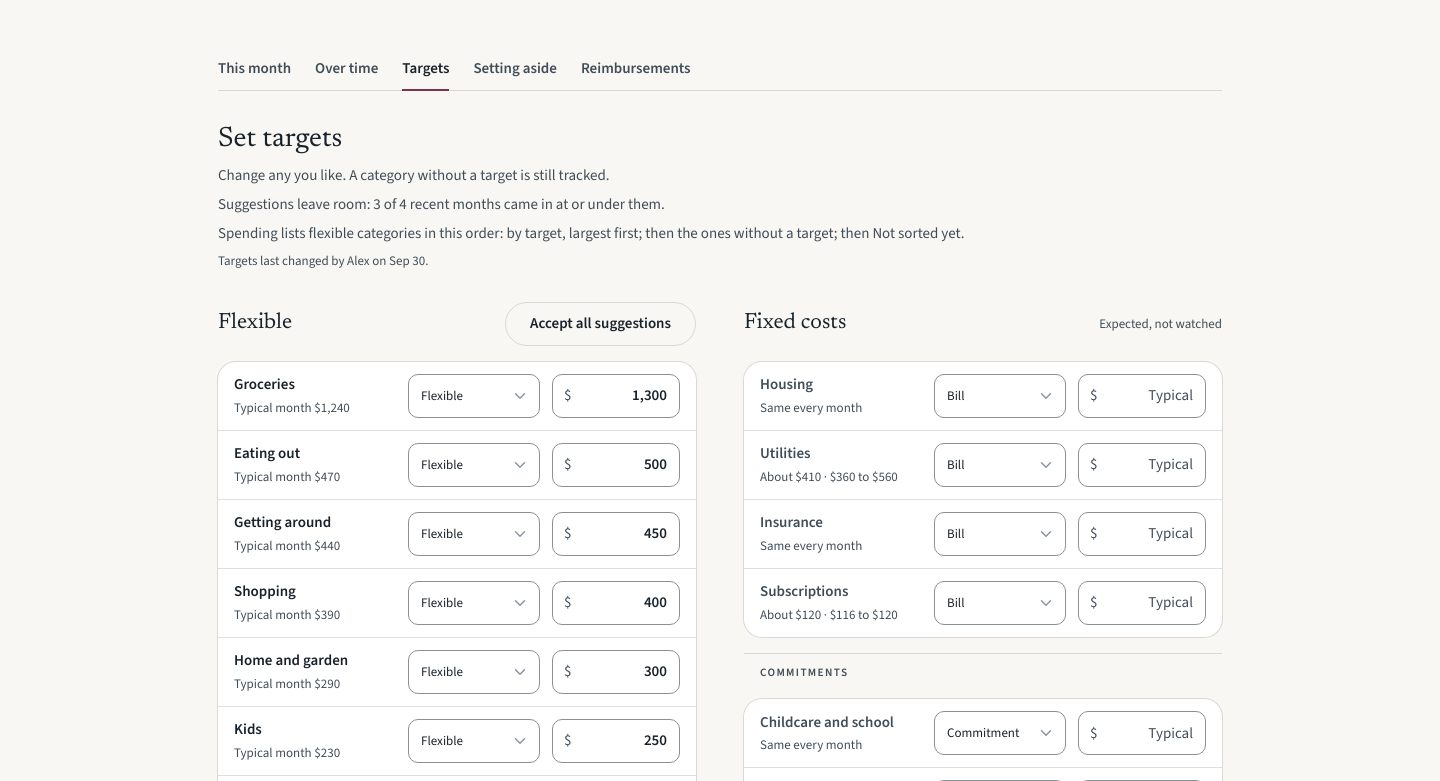
Test case: Set targets › a changed target is outlined, offers the typical month, and saves only what changed
Expected: the text "Suggestions leave room: 3 of 4 recent months came in at or under them." is shown, x1=218 y1=194 x2=665 y2=214
Replace the text in the field named "Groceries target" with "1250" at (616,396), box x1=552 y1=374 x2=680 y2=418
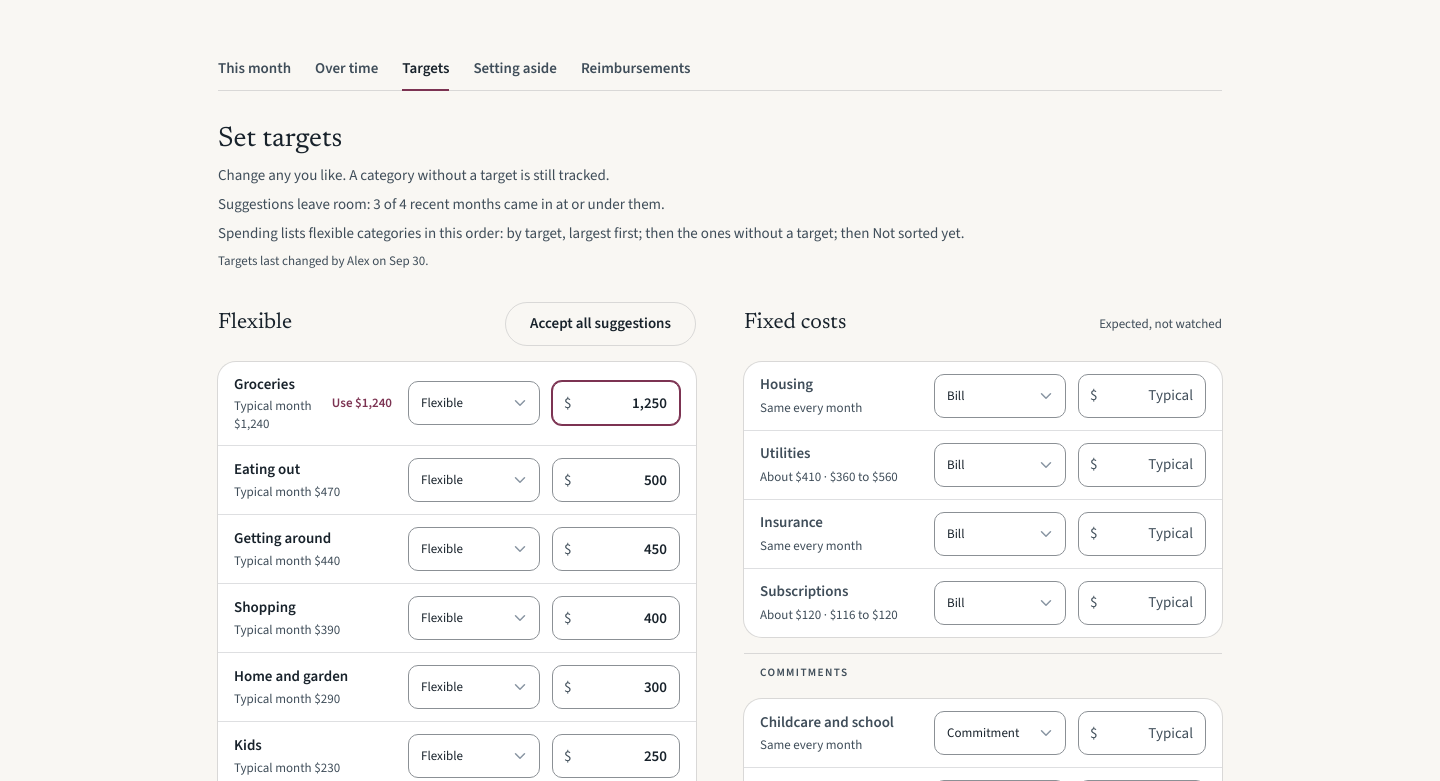
Expected: the element named "Groceries target" has class "is-changed", x1=552 y1=382 x2=680 y2=426
Click the button "Use $1,240" at (362,404), box x1=332 y1=390 x2=392 y2=418
(page scrolled)
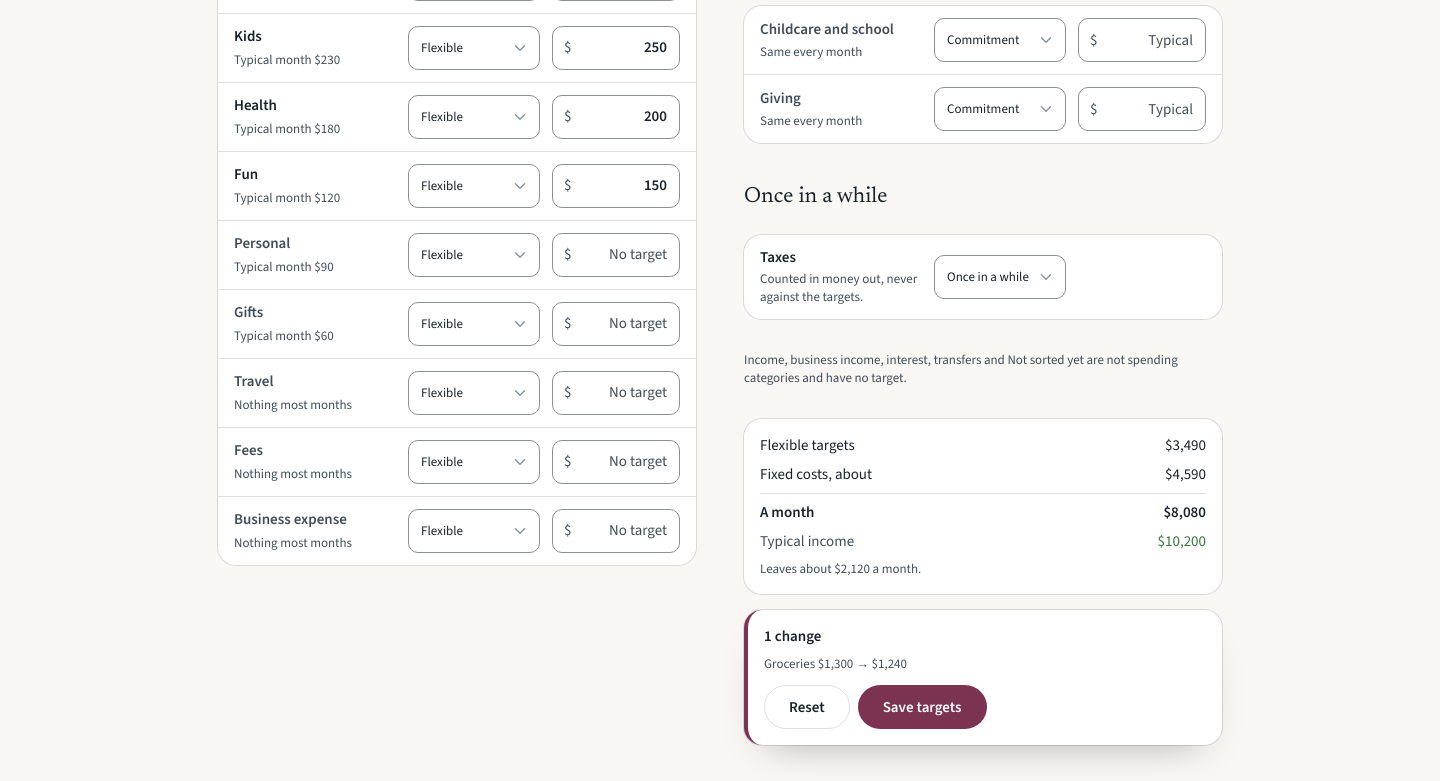
Click the button "Save targets" at (922,707), box x1=858 y1=685 x2=987 y2=729
(page scrolled)
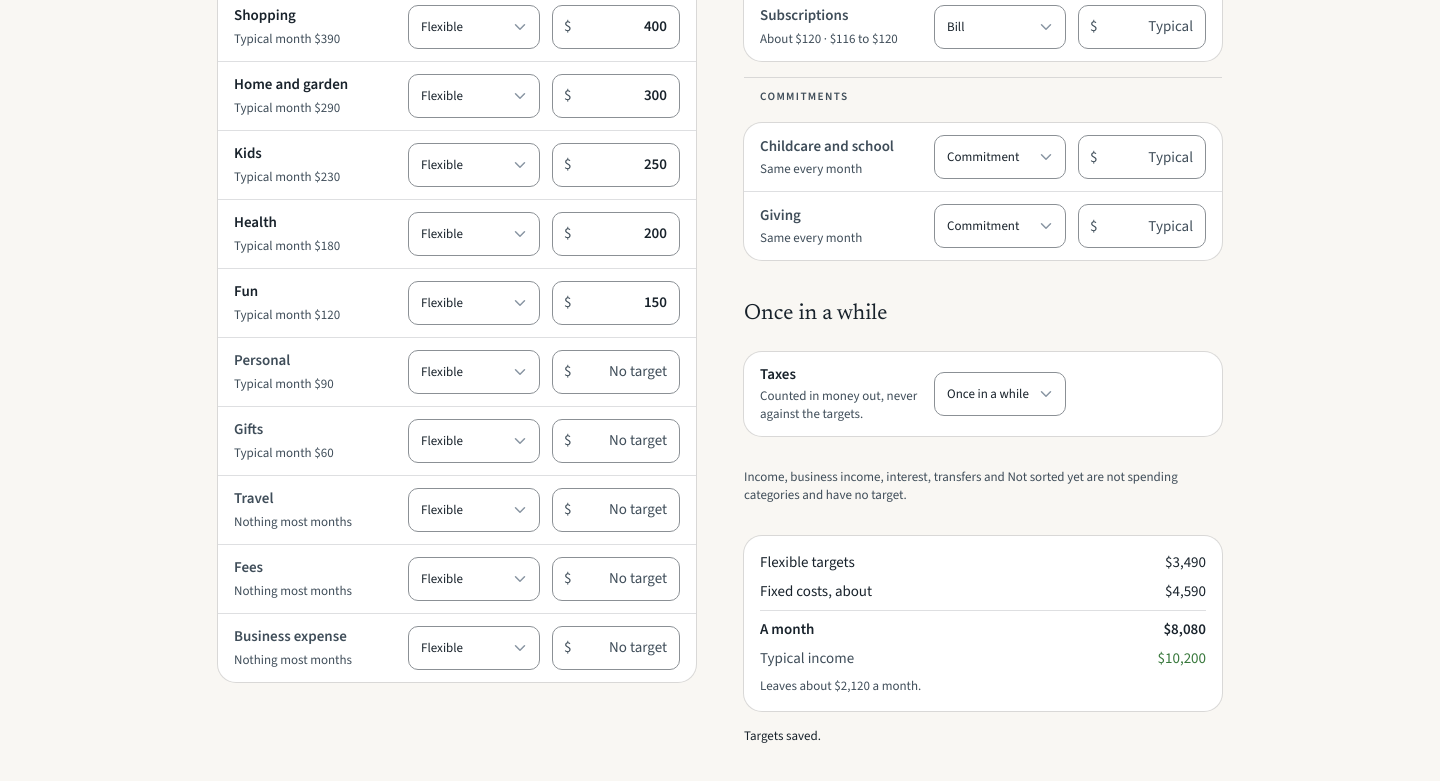
Expected: the element "change" is not shown
Expected: the text "Targets saved." is shown, x1=744 y1=727 x2=821 y2=744
